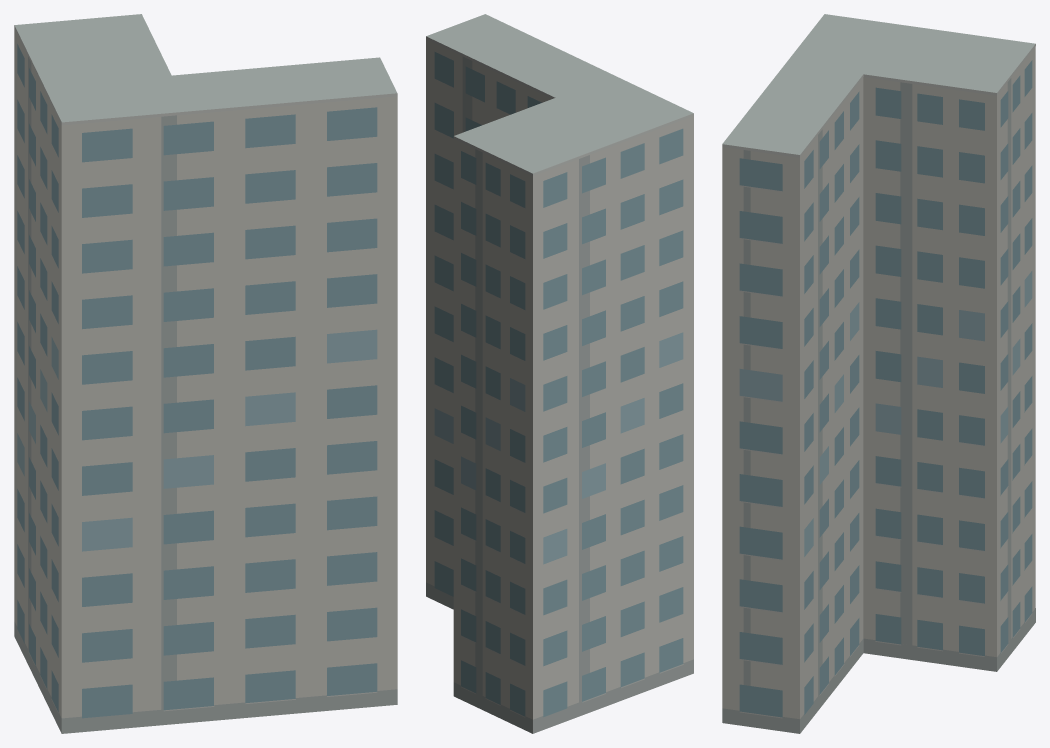
File: residential-ecd800d4-4c5a-4be8-9a8f-424c061cd9d7.glb
3 views of the same model, side by side, from view 1: azimuth 30°, elevation 25°; view 2: azimuth 150°, elevation 25°; view 3: azimuth 270°, elevation 25° (orthographic). The views are drawn at different scales.
Parts seen in each view (by area): view 1: residential-ecd800d4-4c5a-4be8-9a8f-424c061cd9d7.tmp; view 2: residential-ecd800d4-4c5a-4be8-9a8f-424c061cd9d7.tmp; view 3: residential-ecd800d4-4c5a-4be8-9a8f-424c061cd9d7.tmp.
Boxes of the visible parts, x1,y1,x2,y2 form: residential-ecd800d4-4c5a-4be8-9a8f-424c061cd9d7.tmp: (14,14,397,733); residential-ecd800d4-4c5a-4be8-9a8f-424c061cd9d7.tmp: (426,14,693,733); residential-ecd800d4-4c5a-4be8-9a8f-424c061cd9d7.tmp: (722,14,1035,733).
Bounding box in the file's own units: 26.66 × 51 × 25.05.
